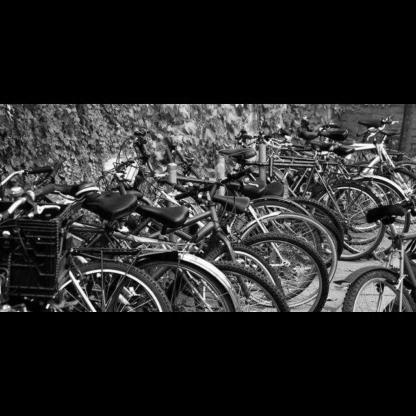Bicycle: (48, 200, 414, 314), (1, 183, 181, 322), (337, 200, 414, 325)
